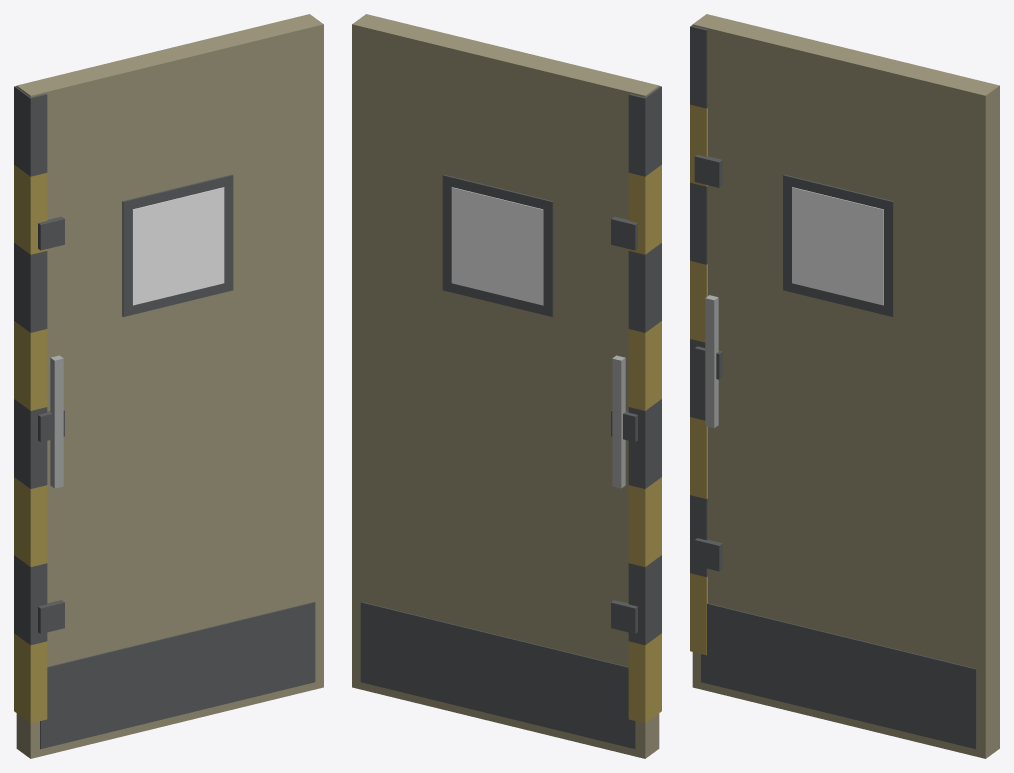
The model's file is bulkhead_steel_door.glb.
3 views of the same model, side by side, from view 1: azimuth 30°, elevation 25°; view 2: azimuth 150°, elevation 25°; view 3: azimuth 330°, elevation 25° (orthographic).
Visible parts, largest first — view 1: bulkhead_steel_door; view 2: bulkhead_steel_door; view 3: bulkhead_steel_door.
Boxes of the visible parts, x1,y1,x2,y2 form: bulkhead_steel_door: [14, 14, 323, 758]; bulkhead_steel_door: [352, 14, 661, 758]; bulkhead_steel_door: [690, 14, 999, 758].
Size of the model in its own units: 0.964 by 2.07 by 0.144.
